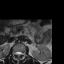CCS_normal: (17, 49, 19, 58)
LFS_normal: (22, 50, 24, 56)
LLS_normal: (19, 49, 22, 56)
RFS_normal: (13, 50, 15, 56)
RLS_normal: (15, 50, 17, 56)
